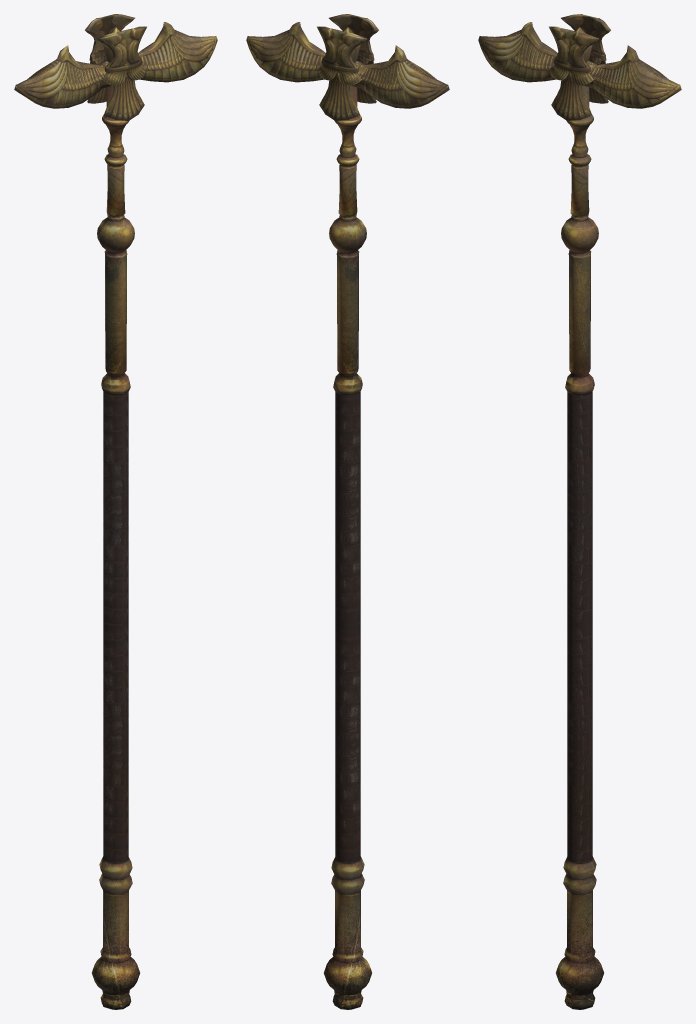
File: WizardStaff.fbx
The picture shows the model from 3 angles, left to right: view 1: azimuth 30°, elevation 25°; view 2: azimuth 150°, elevation 25°; view 3: azimuth 330°, elevation 25°; orthographic projection.
Visible parts, largest first — view 1: Wizard_Staff; view 2: Wizard_Staff; view 3: Wizard_Staff.
Boxes of the visible parts, <box> form: Wizard_Staff: <box>14,14,217,1009</box>; Wizard_Staff: <box>246,14,449,1009</box>; Wizard_Staff: <box>478,14,681,1009</box>.
Size of the model in its own units: 36.57 by 169 by 8.07.
